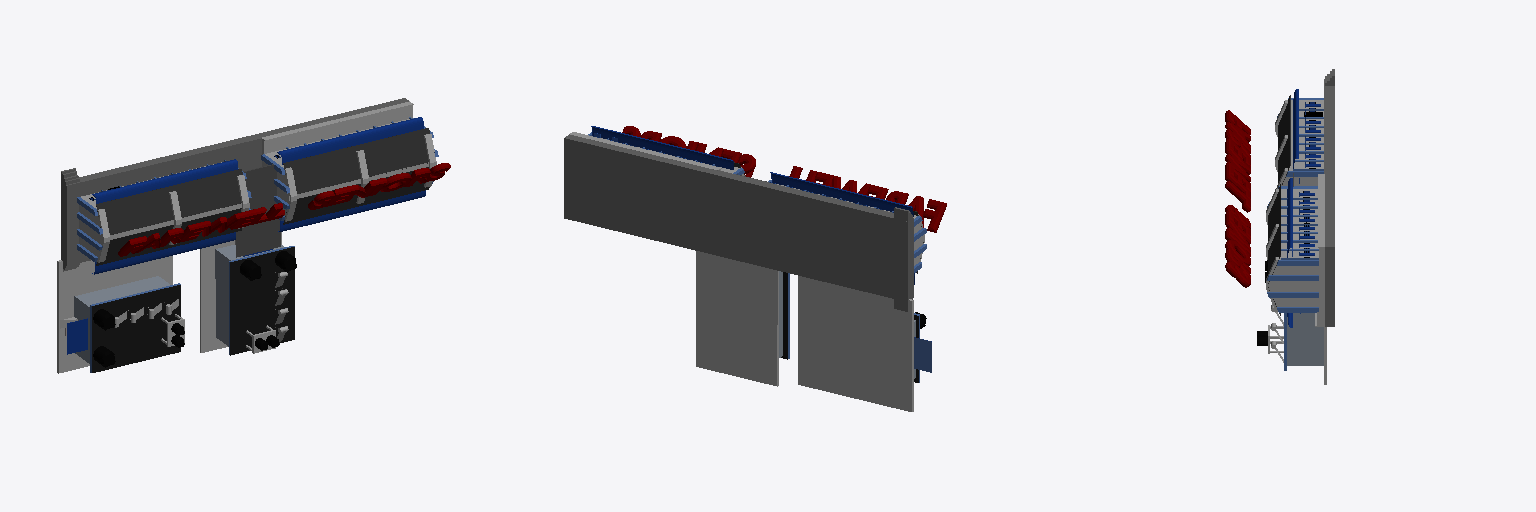
3 renders of one model, left to right at view 1: azimuth 30°, elevation 25°; view 2: azimuth 150°, elevation 25°; view 3: azimuth 270°, elevation 25°, orthographic.
Visible parts, largest first — view 1: Cube.024_Cube.1080, Cube.497_Cube.1139, Cube.047_Cube.1120, roof_plane.007_Cube.1032, roof_plane.005_Cube.1041, Text_Text.004, Cube.058_Cube.1131, Cube.020_Cube.1045, Cube.021_Cube.1051, main_block.004_Cube.1039, main_block.007_Cube.1034, Cube.499_Cube.1141 (+9 smaller); view 2: Cube.024_Cube.1080, Cube.058_Cube.1131, Cube.499_Cube.1141, Text_Text.004, helmet.012_BezierCurve.013, helmet.004_BezierCurve.004, Cube.047_Cube.1120, Cube.060_Cube.1133; view 3: Text_Text.004, main_block.007_Cube.1034, Cube.024_Cube.1080, Cube.048_Cube.1121, main_block.004_Cube.1039, Cube.021_Cube.1051, roof_plane.005_Cube.1041, roof_plane.007_Cube.1032, side_11.024_Cube.975.
Boxes of the visible parts, <box> form: Cube.024_Cube.1080: <box>61,98,408,265</box>; Cube.497_Cube.1139: <box>90,283,180,372</box>; Cube.047_Cube.1120: <box>229,246,294,355</box>; roof_plane.007_Cube.1032: <box>283,128,429,193</box>; roof_plane.005_Cube.1041: <box>96,169,242,234</box>; Text_Text.004: <box>118,163,450,256</box>; Cube.058_Cube.1131: <box>57,256,172,373</box>; Cube.020_Cube.1045: <box>236,164,280,257</box>; Cube.021_Cube.1051: <box>262,101,412,166</box>; main_block.004_Cube.1039: <box>79,162,249,262</box>; main_block.007_Cube.1034: <box>264,119,436,221</box>; Cube.499_Cube.1141: <box>200,232,281,352</box>; Cube.024_Cube.1080: <box>564,134,913,301</box>; Cube.058_Cube.1131: <box>798,276,913,411</box>; Cube.499_Cube.1141: <box>696,251,778,386</box>; Text_Text.004: <box>622,126,946,232</box>; helmet.012_BezierCurve.013: <box>591,126,733,169</box>; helmet.004_BezierCurve.004: <box>770,172,913,216</box>; Cube.047_Cube.1120: <box>781,272,789,359</box>; Cube.060_Cube.1133: <box>914,337,931,372</box>; Text_Text.004: <box>1225,110,1250,287</box>; main_block.007_Cube.1034: <box>1266,189,1318,311</box>; Cube.024_Cube.1080: <box>1324,79,1334,326</box>; Cube.048_Cube.1121: <box>1287,313,1323,365</box>; main_block.004_Cube.1039: <box>1275,100,1323,188</box>; Cube.021_Cube.1051: <box>1319,174,1324,326</box>; roof_plane.005_Cube.1041: <box>1278,95,1290,184</box>; roof_plane.007_Cube.1032: <box>1268,184,1280,283</box>; side_11.024_Cube.975: <box>1281,198,1318,259</box>.
Bounding box in the file's own units: 11.27 × 6.44 × 3.04.